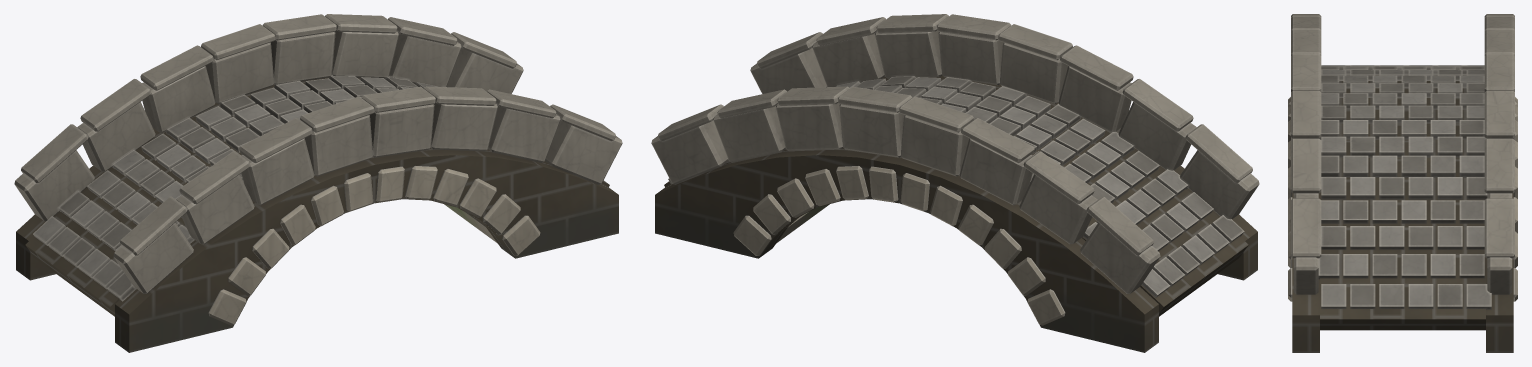
File: puente_rio_piedra.fbx
The picture shows the model from 3 angles, left to right: view 1: azimuth 30°, elevation 25°; view 2: azimuth 150°, elevation 25°; view 3: azimuth 270°, elevation 25°; orthographic projection. The views are drawn at different scales.
Parts seen in each view (by area): view 1: puente_rio_piedra; view 2: puente_rio_piedra; view 3: puente_rio_piedra.
Part boxes in pixels (x1,y1,x2,y2): puente_rio_piedra: (14,14,622,352); puente_rio_piedra: (651,14,1259,352); puente_rio_piedra: (1288,14,1517,352).
Size of the model in its own units: 8.17 by 2.92 by 3.32.
1 material, 1 textured.
